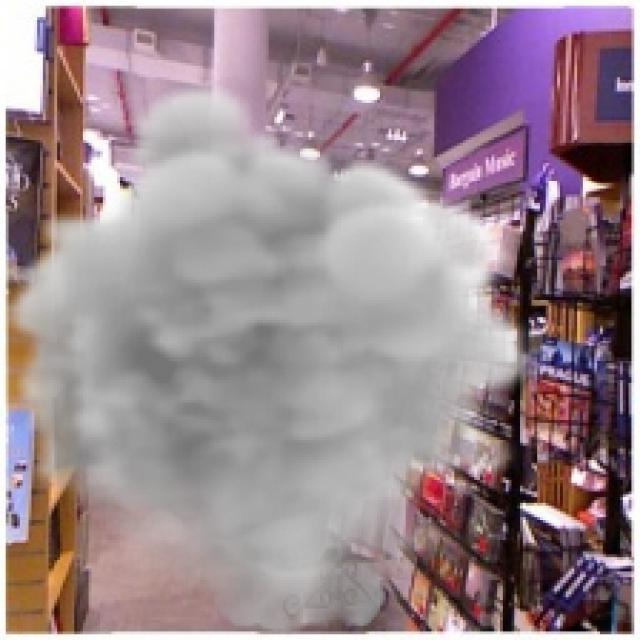smoke: (3, 77, 537, 637)
